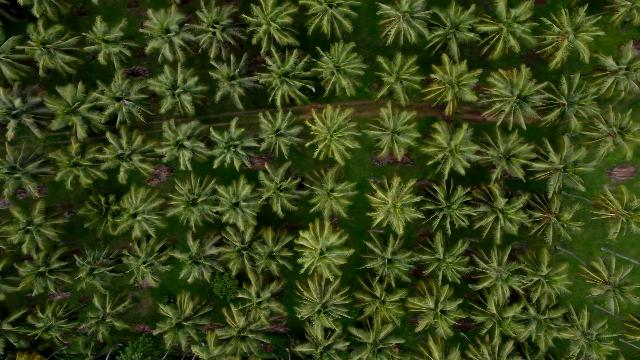trees: (475, 66, 557, 131), (6, 21, 87, 80), (534, 6, 607, 69), (538, 74, 609, 136), (527, 136, 599, 196), (44, 82, 114, 143), (8, 241, 84, 296), (96, 124, 168, 182), (467, 185, 537, 244), (153, 291, 218, 354), (469, 244, 535, 306), (474, 127, 542, 186), (472, 2, 542, 59), (255, 45, 318, 108), (404, 278, 469, 339), (418, 118, 484, 178), (416, 177, 482, 237), (91, 76, 160, 133), (364, 175, 427, 237), (420, 53, 484, 114), (575, 106, 639, 167), (421, 4, 489, 61), (294, 219, 357, 280), (2, 198, 73, 252), (219, 224, 291, 277), (138, 4, 202, 63), (362, 105, 423, 166), (467, 286, 532, 343), (579, 256, 640, 316), (186, 2, 249, 60), (305, 105, 364, 166), (513, 248, 574, 307), (165, 174, 227, 232), (524, 192, 588, 248), (293, 271, 356, 327), (357, 231, 421, 286), (78, 15, 143, 69), (351, 273, 411, 331), (150, 62, 211, 118), (413, 232, 476, 286), (109, 186, 172, 240), (155, 117, 215, 173), (558, 308, 622, 360), (300, 167, 358, 224), (210, 174, 268, 231), (582, 46, 640, 103), (311, 41, 370, 97), (240, 2, 303, 54), (174, 230, 234, 284), (209, 51, 264, 109), (369, 52, 428, 106), (229, 272, 290, 324), (256, 161, 309, 220), (119, 235, 179, 287), (206, 118, 263, 172), (255, 108, 310, 163), (2, 141, 59, 194), (80, 290, 139, 341), (589, 185, 640, 242), (70, 242, 129, 291), (22, 299, 85, 344), (374, 2, 435, 47), (299, 3, 362, 42), (345, 321, 408, 360)
